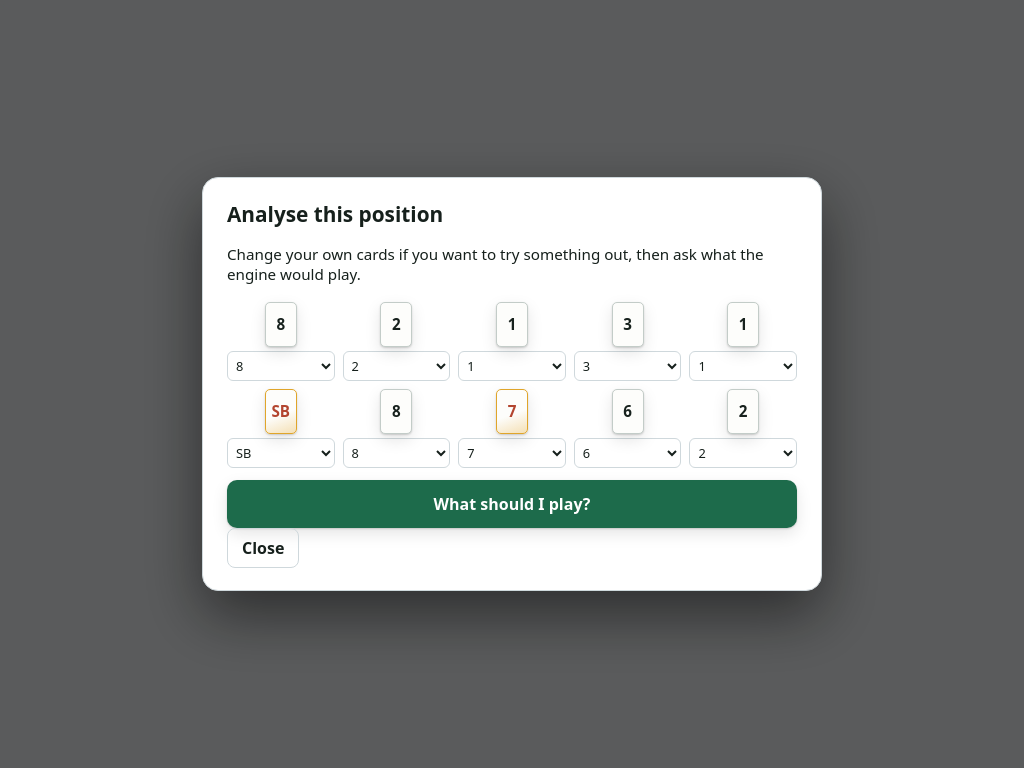
Test: AnalysisPanel › recommends a move and shows the search behind it
Click the button "What should I play?" at point(512, 504), box [227,480,797,528]
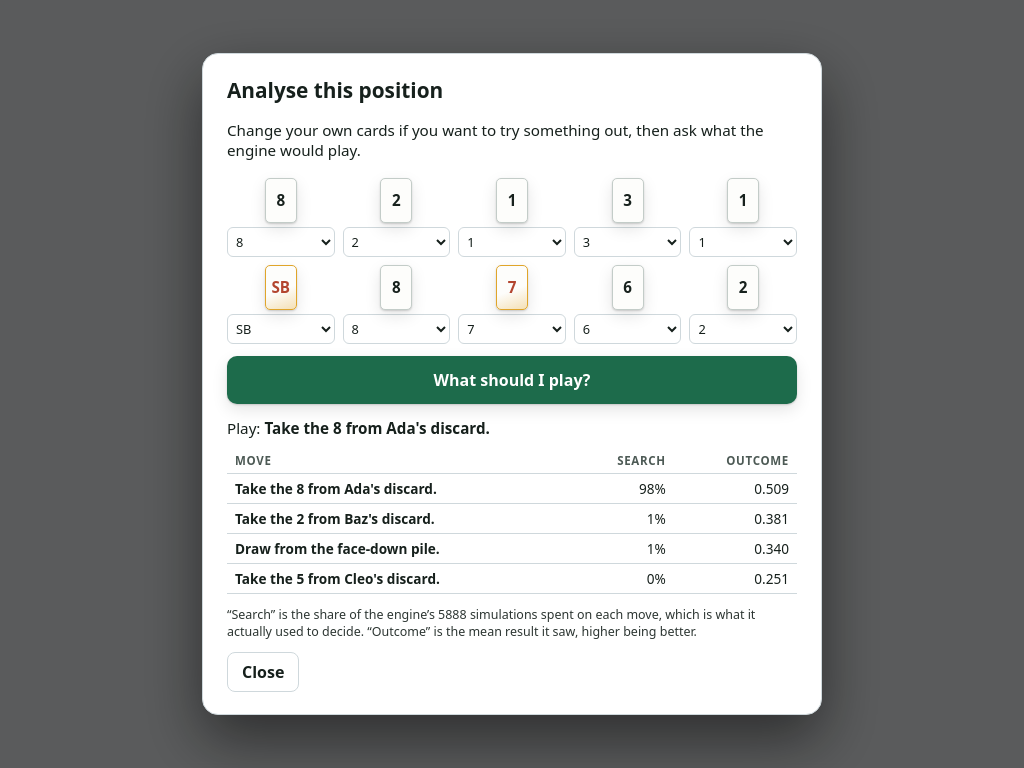
Expected: the element with test id "analysis-result" is shown, [227,418,797,640]
Expected: the row with test id "candidate" that starts with "Take the 8 from Ada's discard." is shown, [227,473,797,503]
Expected: the element with test id "analysis-result" shows "%", [654,479,666,498]
